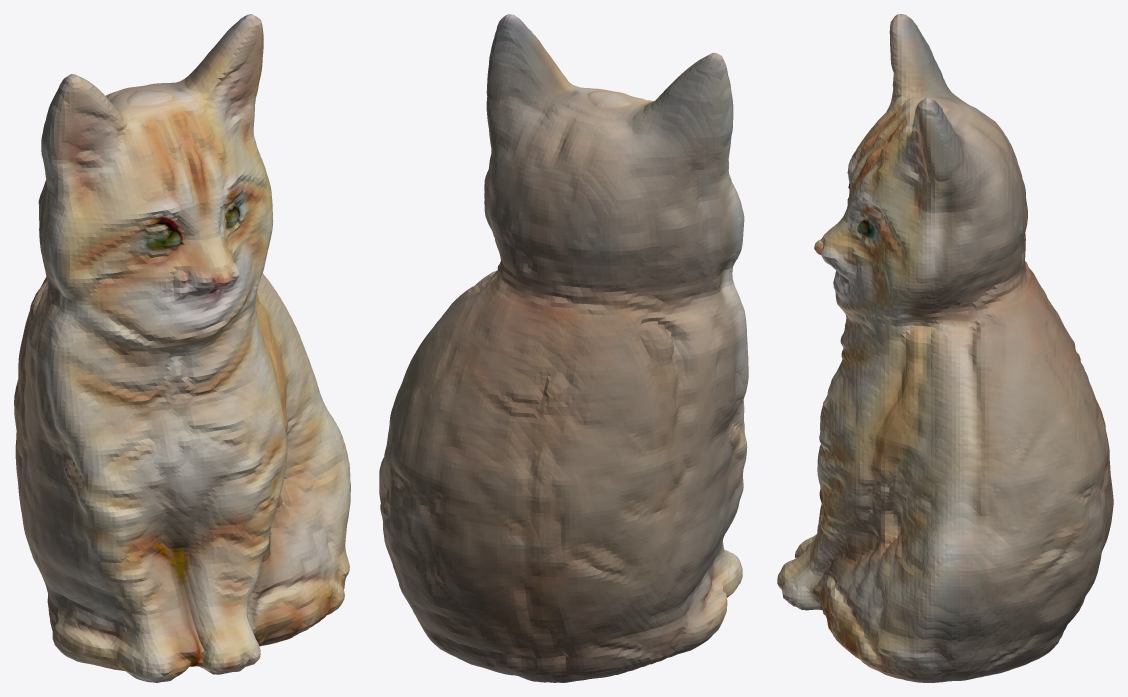
The model's file is gato_local_srgb.glb.
3 views of the same model, side by side, from view 1: azimuth 30°, elevation 25°; view 2: azimuth 150°, elevation 25°; view 3: azimuth 270°, elevation 25° (orthographic). The views are drawn at different scales.
Visible parts, largest first — view 1: geometry_0; view 2: geometry_0; view 3: geometry_0.
Part boxes in pixels (bbox=[...]): geometry_0: bbox=[14, 14, 350, 682]; geometry_0: bbox=[379, 14, 748, 682]; geometry_0: bbox=[777, 14, 1113, 682].
Size of the model in its own units: 0.5667 by 1.03 by 0.5507.
